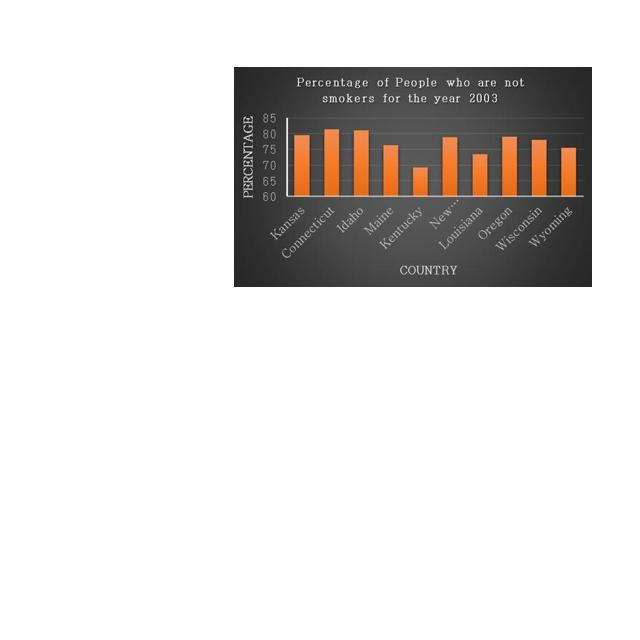Graph: (234, 67, 592, 287)
